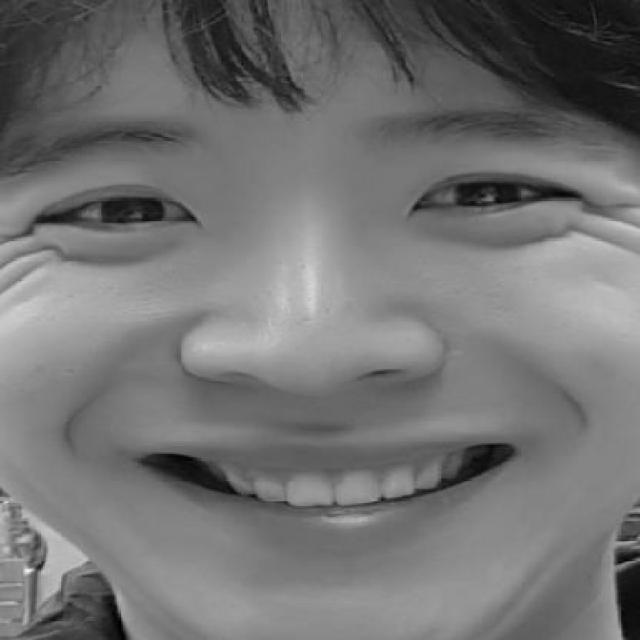happy: (6, 111, 623, 578)
